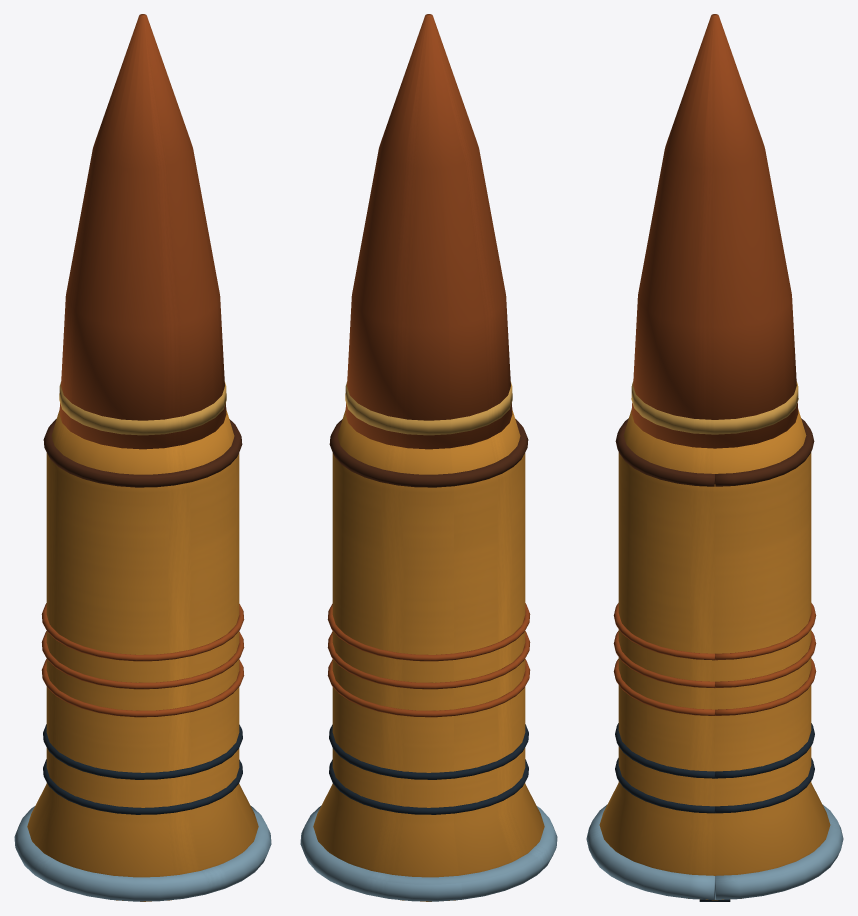
Rendered from SM_bullet_round.fbx.
3 views of the same model, side by side, from view 1: azimuth 30°, elevation 25°; view 2: azimuth 150°, elevation 25°; view 3: azimuth 270°, elevation 25° (orthographic).
Visible parts, largest first — view 1: SM_bullet_round; view 2: SM_bullet_round; view 3: SM_bullet_round.
Part boxes in pixels (x1,y1,x2,y2): SM_bullet_round: (14, 14, 271, 901); SM_bullet_round: (300, 14, 557, 901); SM_bullet_round: (586, 14, 843, 901).
Bounding box in the file's own units: 0.0668 × 0.0668 × 0.2464.
